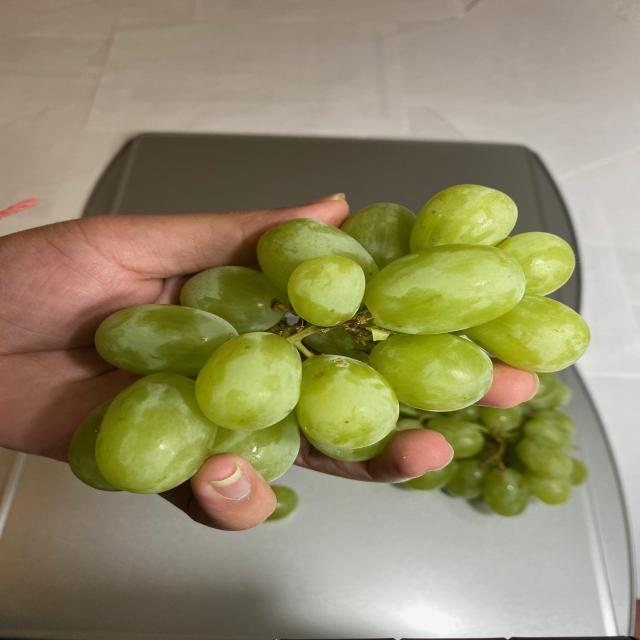grapes: (67, 179, 595, 502)
